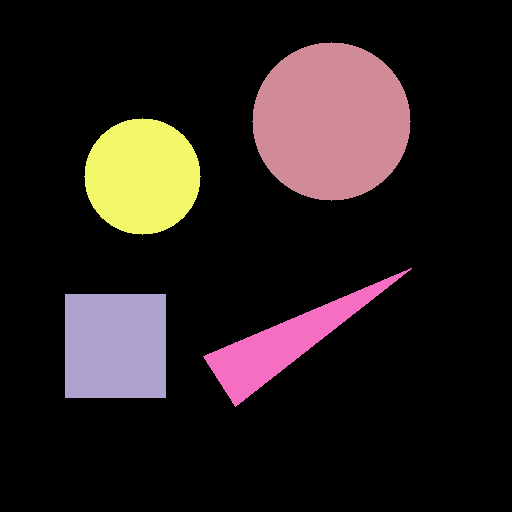circle: (252, 42, 410, 200), (84, 118, 200, 234)
square: (65, 294, 165, 397)
triangle: (203, 268, 411, 406)
